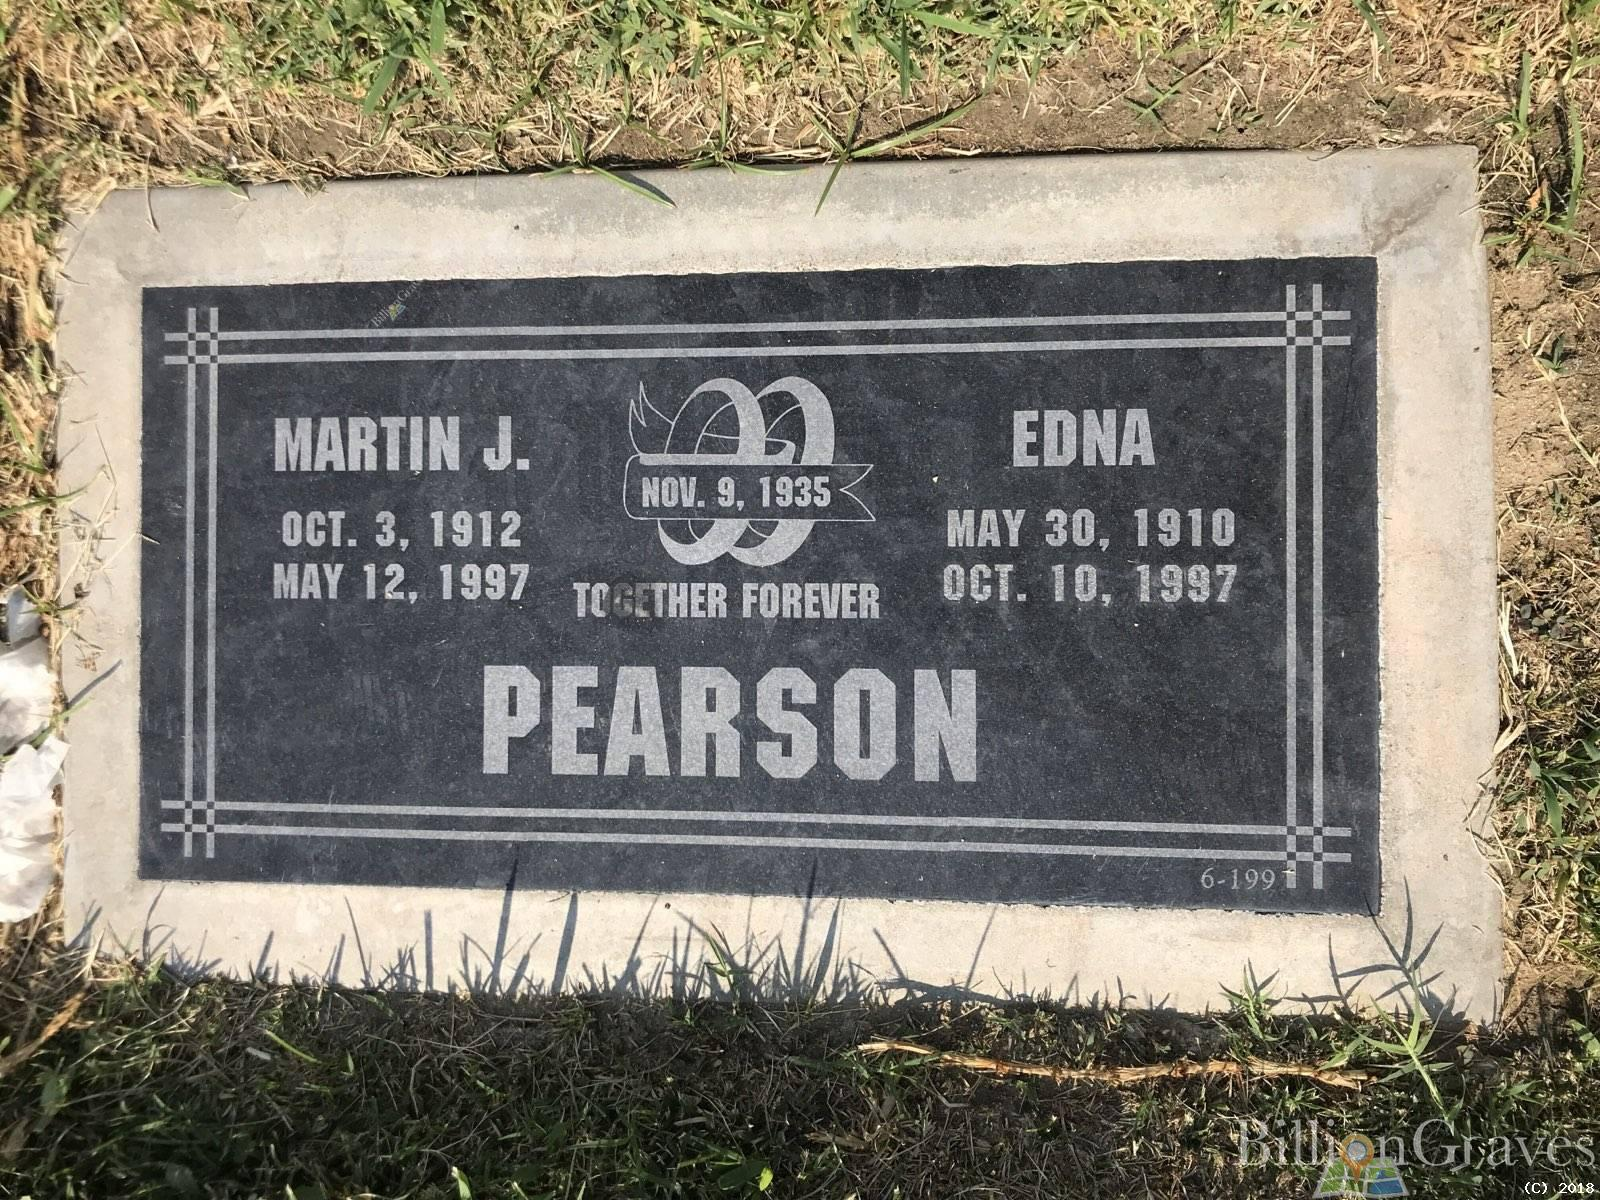flat: (135, 253, 1378, 916)
